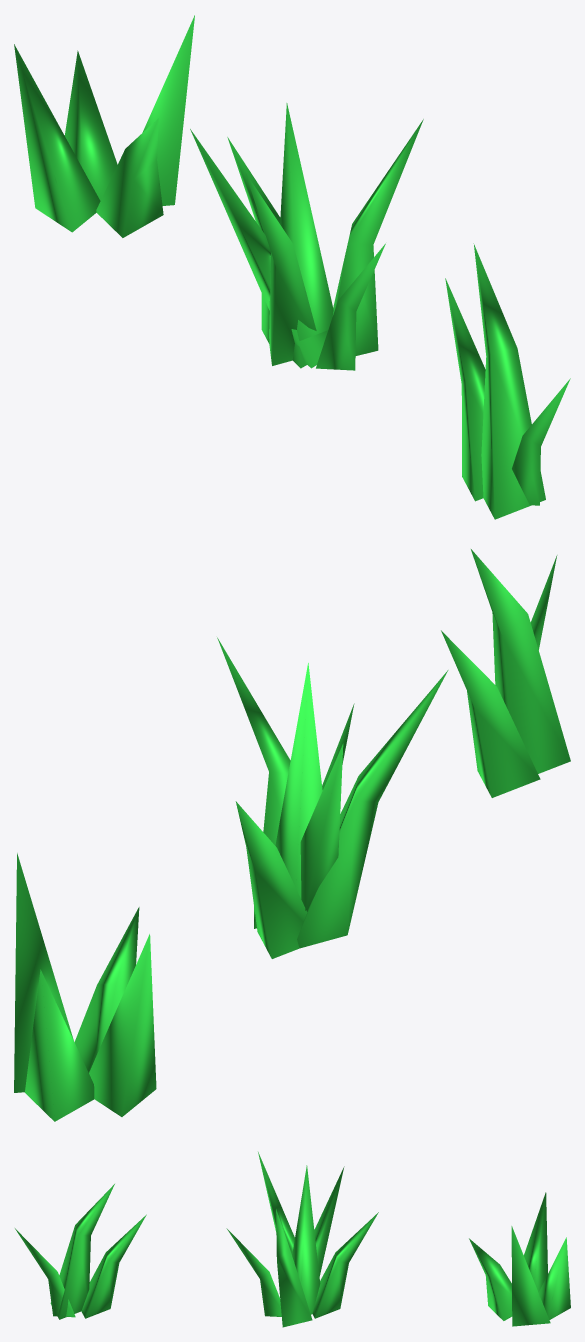
Rendered from Grass.fbx.
The picture shows the model from 3 angles, top to bottom: view 1: azimuth 30°, elevation 25°; view 2: azimuth 150°, elevation 25°; view 3: azimuth 270°, elevation 25°; orthographic projection. The views are drawn at different scales.
Visible parts, largest first — view 1: Cone.012, Cone.011, Cone.006, Cone, Cone.007, Cone.008, Cone.003, Cone.010, Cone.009, Cone.002, Cone.004, Cone.005 (+1 smaller); view 2: Cone.012, Cone.007, Cone.011, Cone.003, Cone.009, Cone.001, Cone.010, Cone.006, Cone.002, Cone.008, Cone, Cone.005; view 3: Cone.012, Cone.006, Cone, Cone.010, Cone.001, Cone.003, Cone.009, Cone.008, Cone.011, Cone.004, Cone.005, Cone.002 (+1 smaller).
Part boxes in pixels (x1,y1,x2,y2): Cone.012: [473, 243, 545, 519]; Cone.011: [14, 44, 100, 232]; Cone.006: [280, 103, 333, 368]; Cone: [333, 119, 423, 355]; Cone.007: [245, 172, 316, 365]; Cone.008: [96, 118, 163, 237]; Cone.003: [445, 278, 485, 501]; Cone.010: [142, 15, 194, 205]; Cone.009: [64, 50, 117, 200]; Cone.002: [190, 129, 328, 368]; Cone.004: [316, 243, 385, 370]; Cone.005: [512, 378, 570, 505]; Cone.012: [471, 549, 570, 773]; Cone.007: [297, 670, 448, 948]; Cone.011: [89, 934, 156, 1116]; Cone.003: [441, 630, 540, 797]; Cone.009: [25, 969, 94, 1121]; Cone.001: [235, 801, 307, 958]; Cone.010: [14, 853, 73, 1092]; Cone.006: [275, 663, 322, 898]; Cone.002: [300, 743, 343, 910]; Cone.008: [74, 907, 139, 1072]; Cone: [217, 637, 290, 928]; Cone.005: [530, 555, 557, 649]; Cone.012: [50, 1184, 114, 1319]; Cone.006: [292, 1165, 320, 1314]; Cone: [276, 1209, 312, 1327]; Cone.010: [511, 1226, 550, 1326]; Cone.001: [312, 1212, 378, 1318]; Cone.003: [81, 1214, 146, 1318]; Cone.009: [538, 1237, 570, 1319]; Cone.008: [469, 1238, 512, 1320]; Cone.011: [524, 1192, 547, 1292]; Cone.004: [226, 1228, 281, 1316]; Cone.005: [15, 1228, 75, 1317]; Cone.002: [314, 1166, 344, 1276].
Size of the model in its own units: 165 by 202 by 710.
